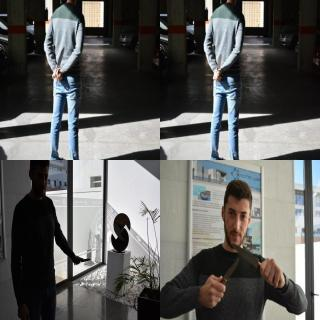knife: (230, 242, 262, 272), (218, 255, 239, 288), (53, 45, 65, 78), (215, 51, 223, 75), (77, 256, 91, 264)
